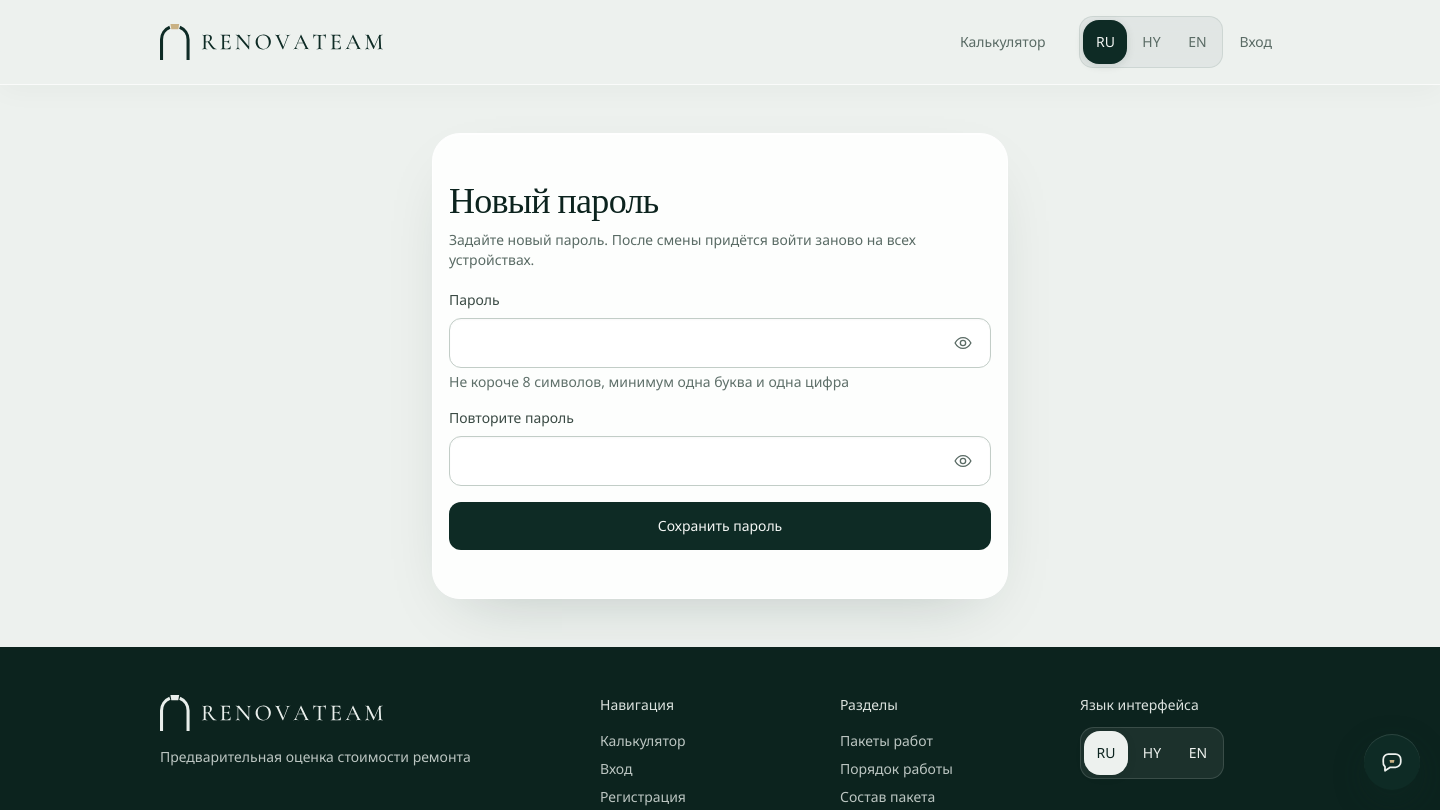
страница установки нового пароля › истёкшая ссылка → честный текст и предложение запросить новую
Type "NewPassword9" into the password field labelled "Пароль".
click(720, 343); type("NewPassword9")  # box top-left (449, 318), bottom-right (991, 368)
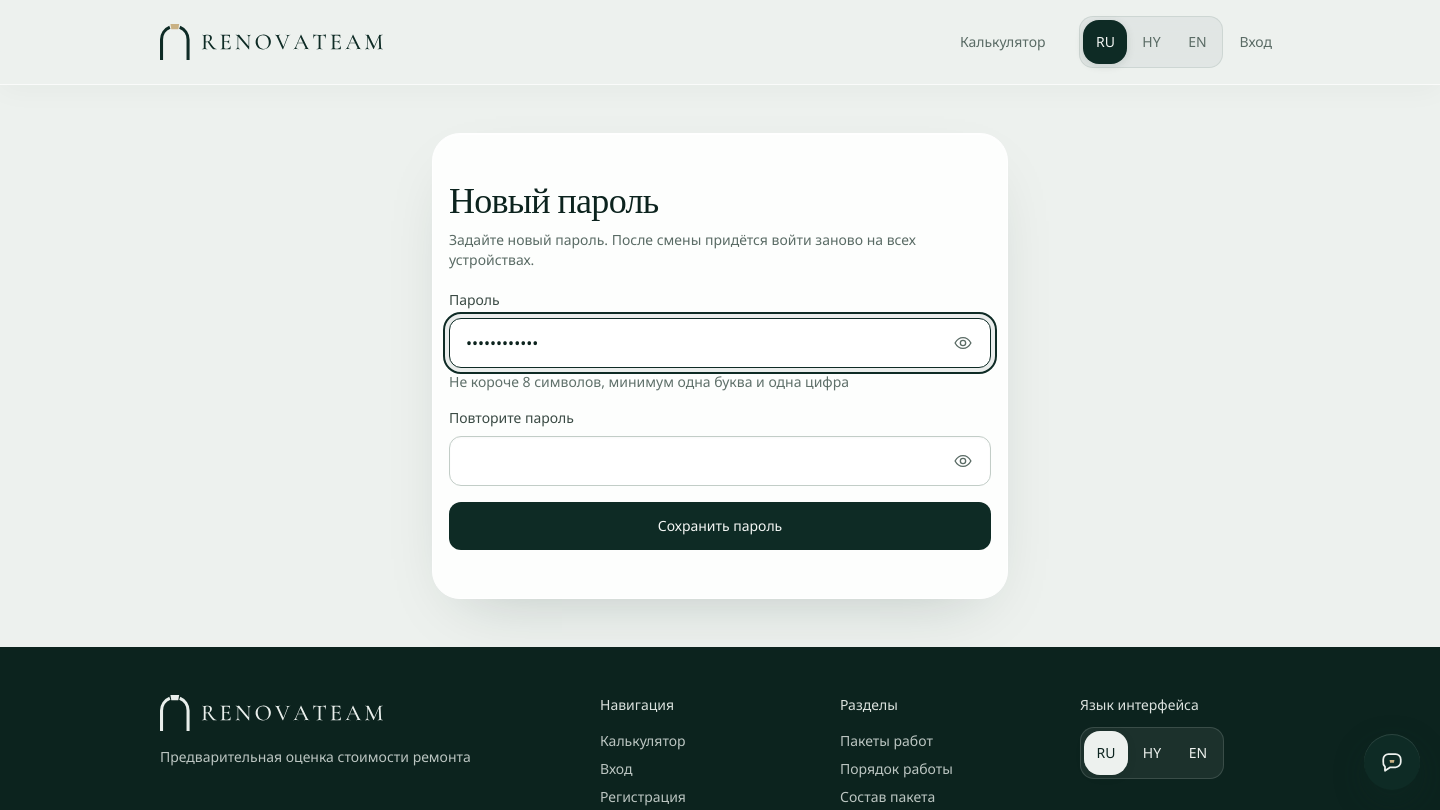
Type "NewPassword9" into the password field labelled "Повторите пароль".
click(720, 461); type("NewPassword9")  # box top-left (449, 436), bottom-right (991, 486)
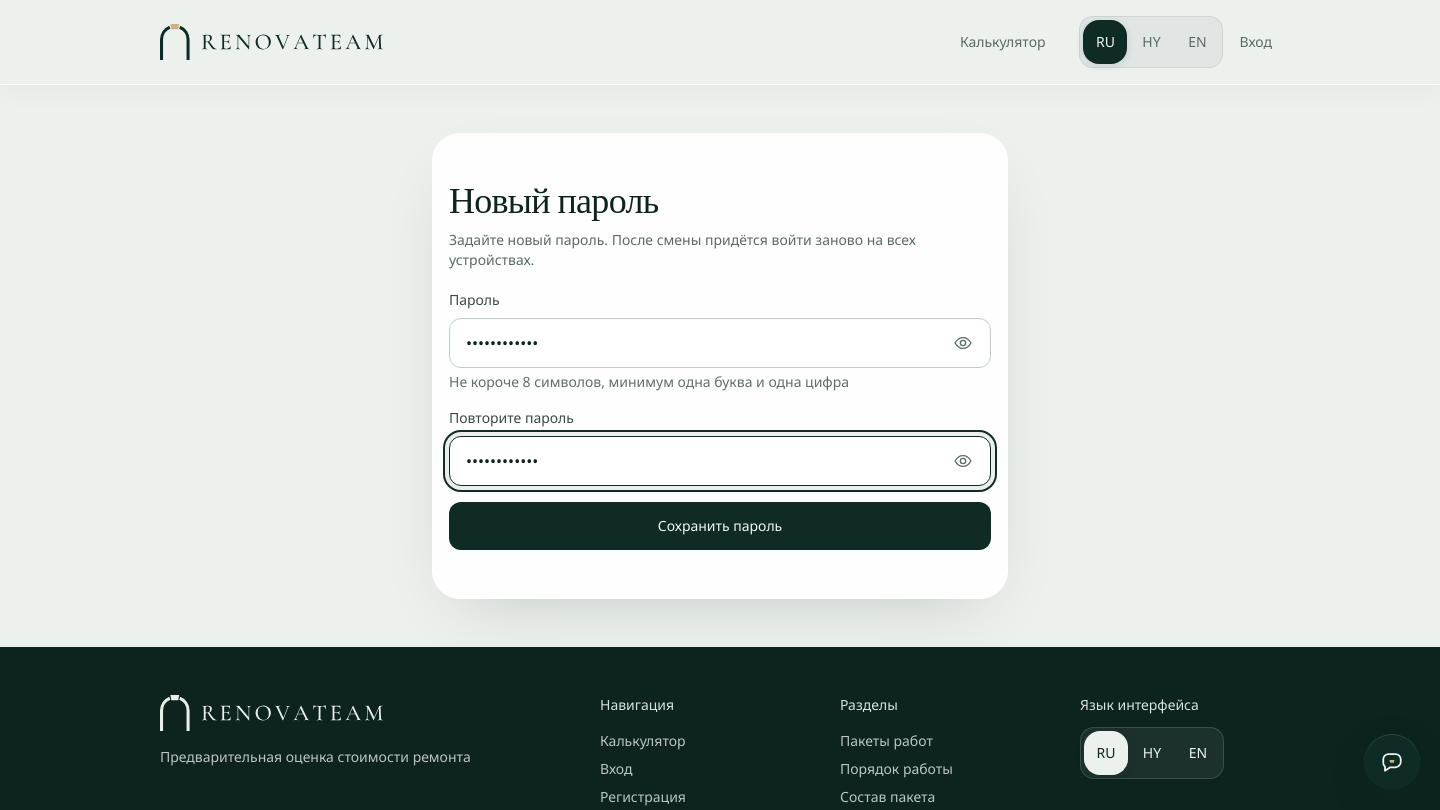
Click the button "Сохранить пароль".
click(720, 526)  # box top-left (449, 502), bottom-right (991, 550)
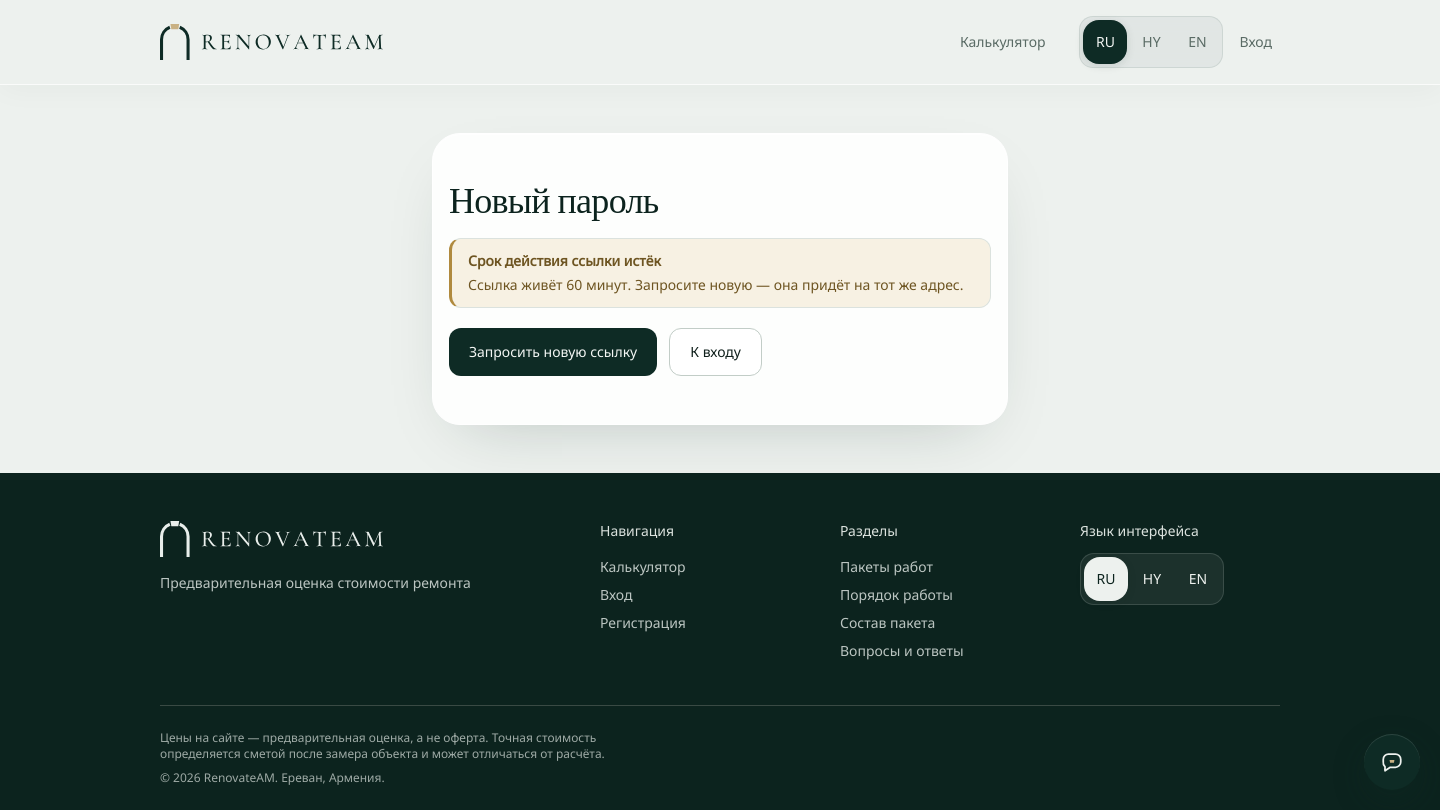
Expected: the text "Срок действия ссылки истёк" is shown, top-left (468, 251), bottom-right (661, 270)
Expected: the link "Запросить новую ссылку" is shown, top-left (449, 328), bottom-right (657, 376)
Expected: the button "Сохранить пароль" is gone
